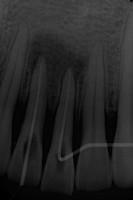Furcation Involvement: (25, 28, 89, 117)
